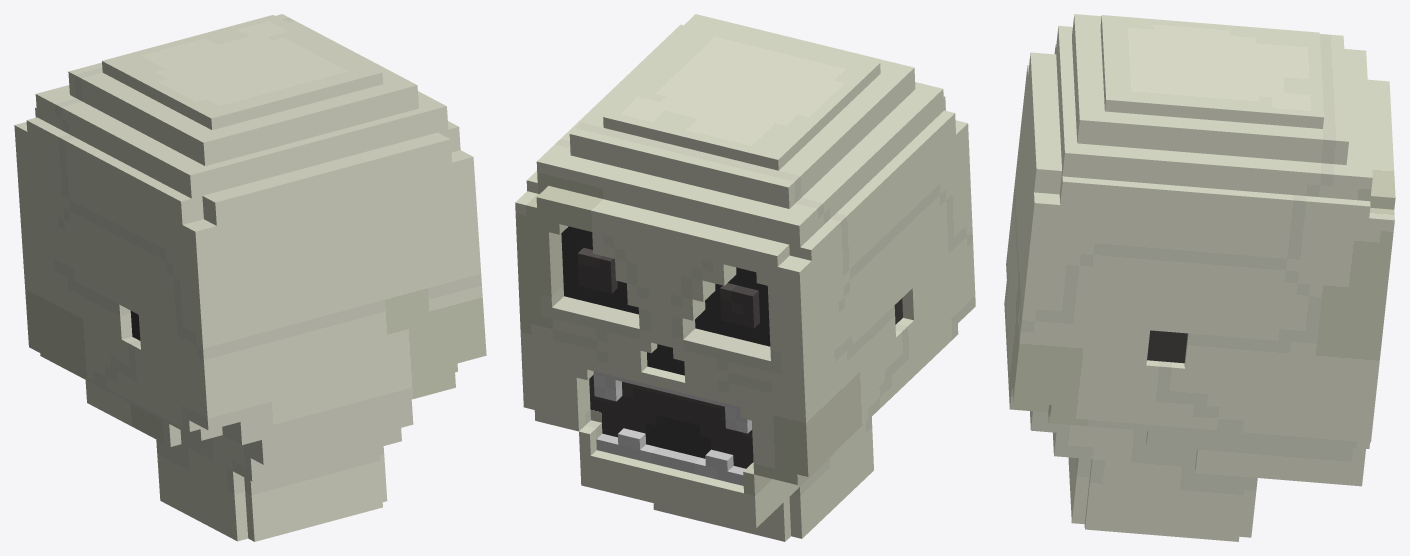
The model's file is 3c98e5d7-d4bb-4a1d-99a2-bbb85b48845b.gltf.
The picture shows the model from 3 angles, left to right: view 1: azimuth 30°, elevation 25°; view 2: azimuth 150°, elevation 25°; view 3: azimuth 270°, elevation 25°; orthographic projection. The views are drawn at different scales.
Parts seen in each view (by area): view 1: Equip_Head-Local; view 2: Equip_Head-Local; view 3: Equip_Head-Local.
Boxes of the visible parts, <box> form: Equip_Head-Local: <box>14,14,486,541</box>; Equip_Head-Local: <box>515,14,975,541</box>; Equip_Head-Local: <box>1004,14,1395,541</box>.
Size of the model in its own units: 26.81 by 38.46 by 30.36.
1 material, 1 textured.
